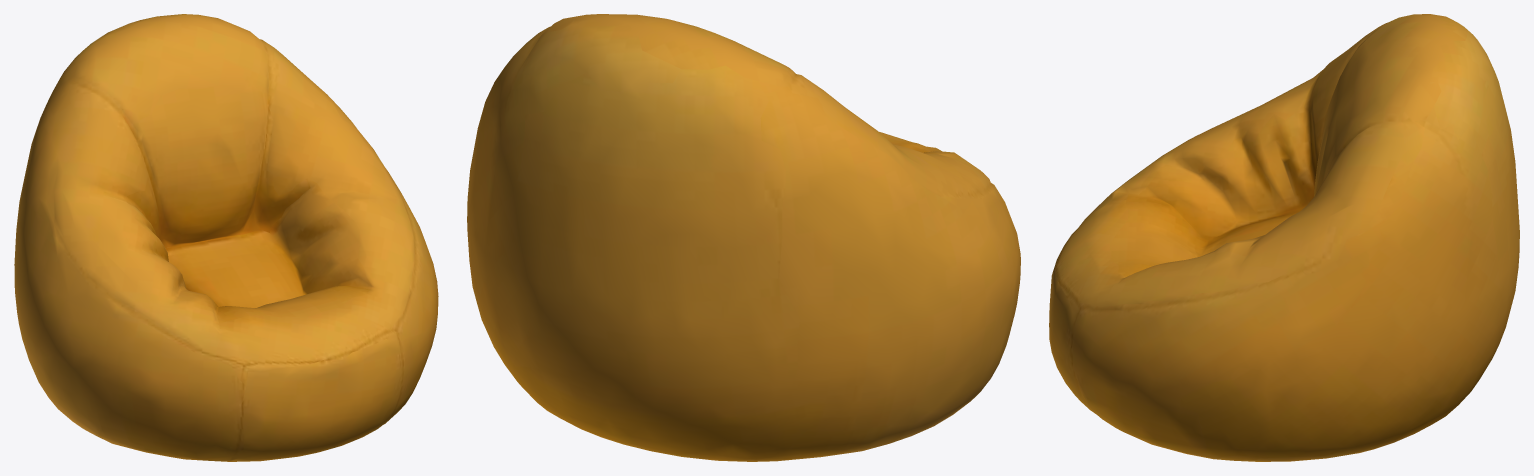
File: beanbag.glb
3 views of the same model, side by side, from view 1: azimuth 30°, elevation 25°; view 2: azimuth 150°, elevation 25°; view 3: azimuth 270°, elevation 25° (orthographic). The views are drawn at different scales.
Visible parts, largest first — view 1: textured_mesh.obj; view 2: textured_mesh.obj; view 3: textured_mesh.obj.
Boxes of the visible parts, x1,y1,x2,y2 form: textured_mesh.obj: [14, 14, 438, 461]; textured_mesh.obj: [467, 14, 1020, 461]; textured_mesh.obj: [1049, 14, 1519, 461].
Size of what is drawn, in the model's own units: 0.9786 by 0.7998 by 0.9773.
1 material, 1 textured.
